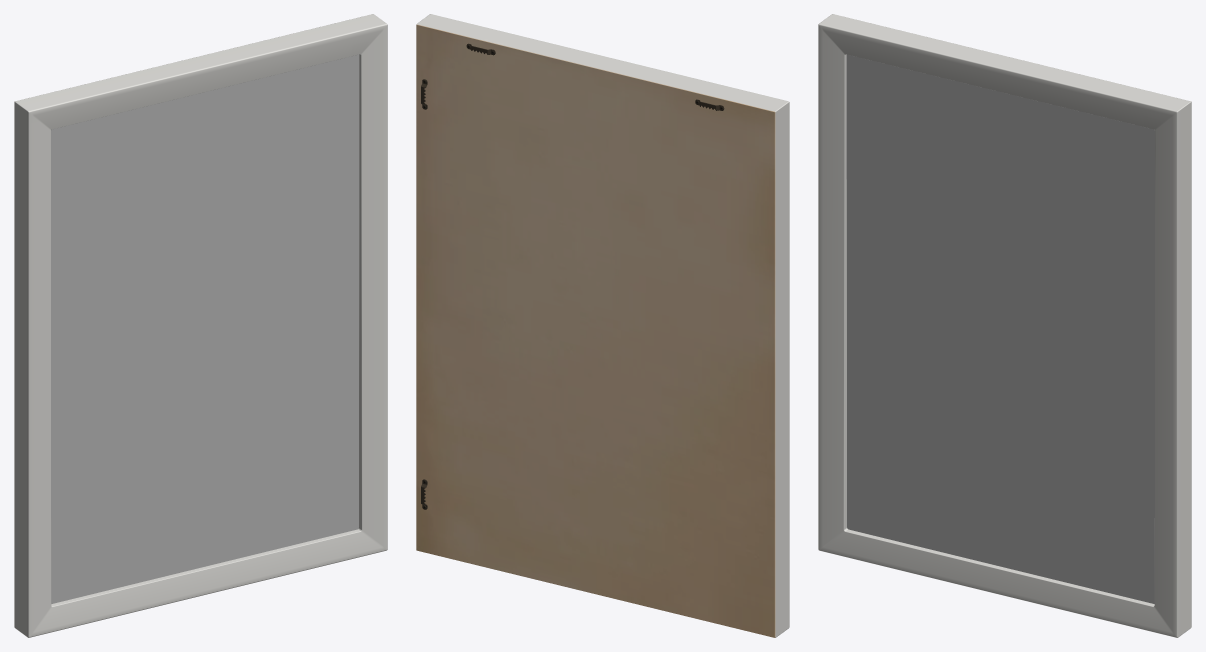
Rendered from abo-B07RQMRZGX.glb.
3 views of the same model, side by side, from view 1: azimuth 30°, elevation 25°; view 2: azimuth 150°, elevation 25°; view 3: azimuth 330°, elevation 25° (orthographic).
Bounding box in the file's own units: 0.507 × 0.71 × 0.04.
Materials: 1 (1 with a texture image).
